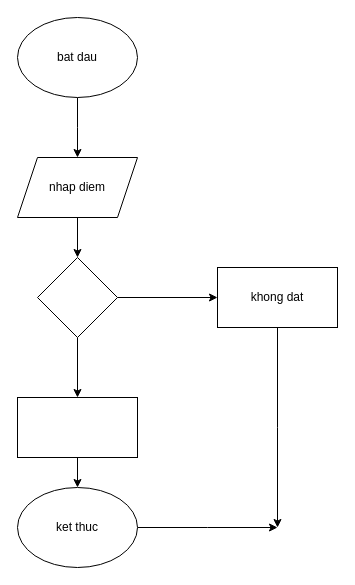
This 355x585 diagram has some shape labels left out. The shapes that lost their labels are listed below. From the top down, each one's box as (x1, y1, x2, y2) in pixels, then its label:
(36, 256, 118, 338): diem>5
(16, 396, 138, 458): dat
